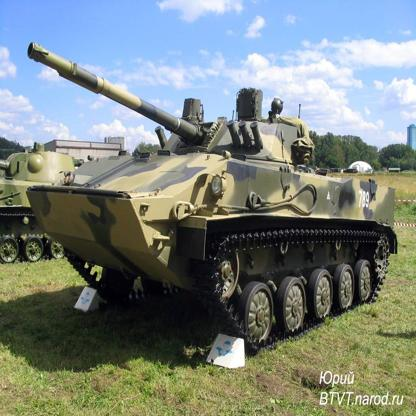Tank: (17, 39, 405, 352)
